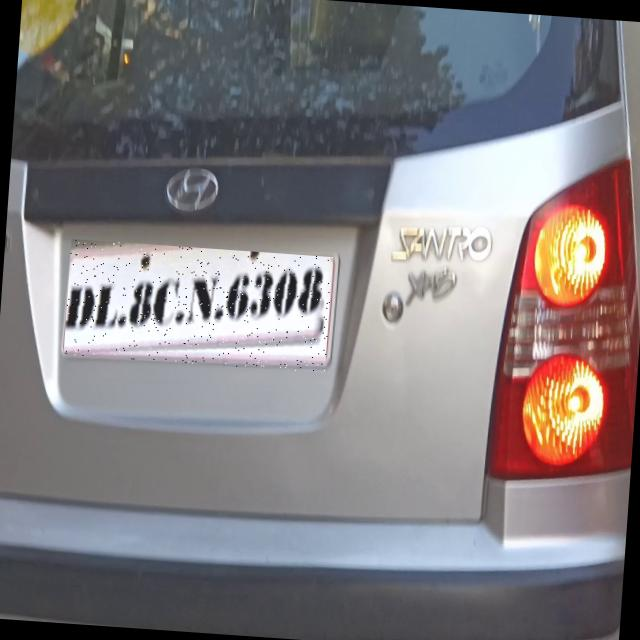Plate: (65, 240, 334, 374)
